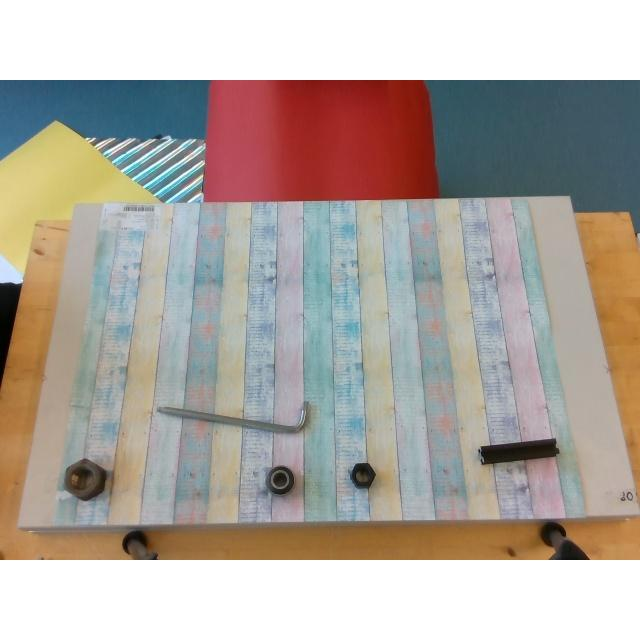AllenKey: (158, 401, 310, 433)
Bearing2: (266, 466, 294, 494)
F20_20_B: (478, 438, 558, 464)
M20: (349, 462, 375, 488)
M30: (64, 458, 106, 500)
